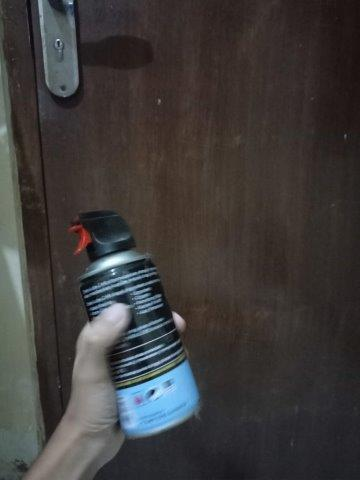kaleng: (79, 250, 201, 438)
